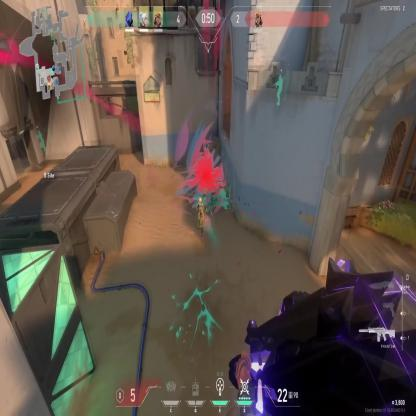enemy: (196, 196, 206, 243)
enemy_head: (198, 197, 202, 205)
